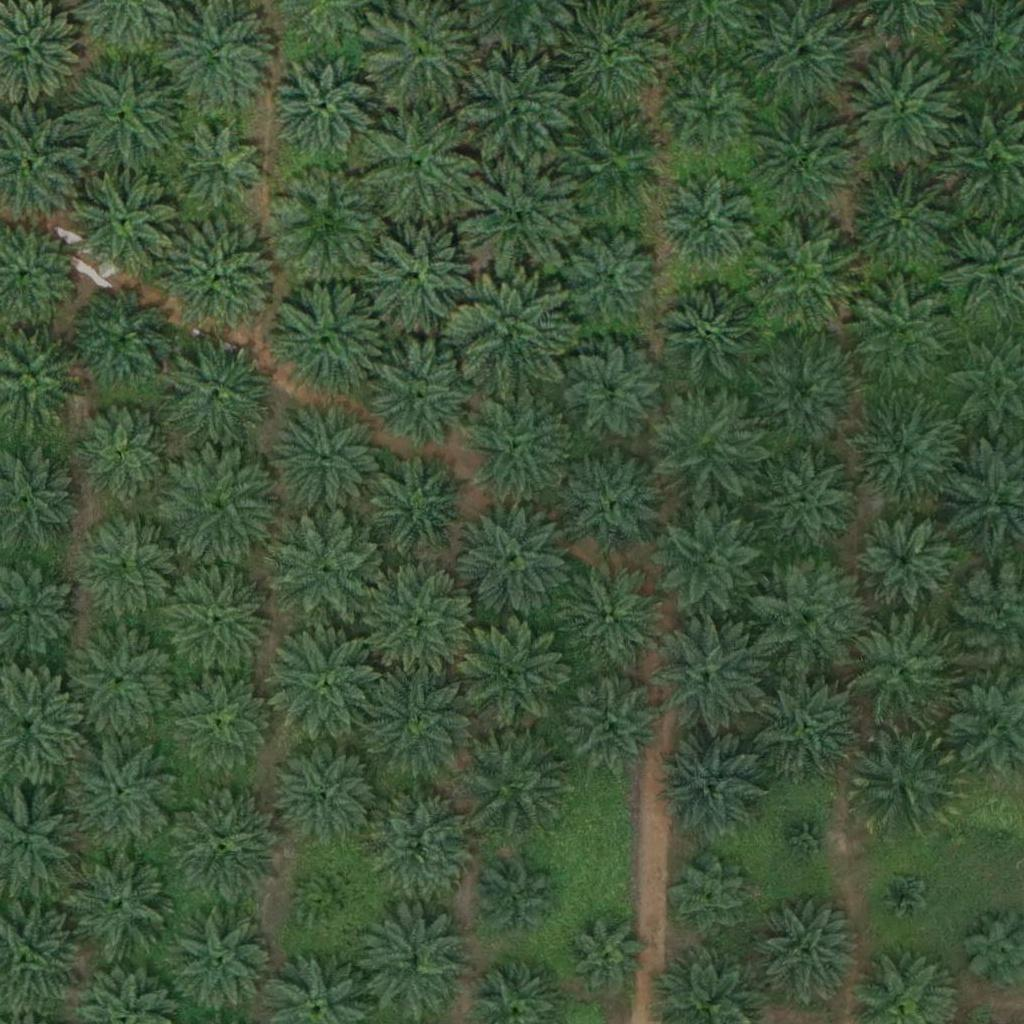Kelapa_Sawit: (749, 101, 862, 215), (847, 277, 960, 391), (850, 397, 963, 511), (364, 786, 477, 900), (270, 627, 383, 741), (68, 56, 181, 169), (69, 161, 182, 274), (163, 221, 276, 334), (273, 280, 386, 393), (459, 55, 572, 168), (461, 161, 574, 274), (455, 276, 568, 389), (844, 55, 957, 168), (846, 164, 959, 277), (654, 507, 767, 620), (654, 620, 767, 733), (657, 735, 770, 848), (552, 556, 665, 669), (368, 567, 481, 680), (362, 662, 475, 775), (269, 402, 382, 515), (273, 518, 386, 631), (160, 337, 273, 450), (165, 451, 278, 564), (358, 910, 471, 1023), (750, 226, 862, 340), (166, 565, 278, 679), (848, 724, 960, 837), (160, 3, 272, 116), (272, 166, 384, 279), (366, 108, 478, 221), (364, 214, 476, 327), (557, 109, 669, 222), (746, 335, 858, 448), (846, 614, 958, 727), (746, 560, 858, 673), (750, 667, 862, 780), (649, 389, 761, 502), (461, 393, 573, 506), (458, 504, 570, 617), (463, 616, 575, 729), (462, 723, 574, 836), (368, 338, 480, 451), (168, 791, 280, 904), (67, 628, 179, 741), (71, 738, 183, 851), (65, 847, 177, 960), (750, 898, 862, 1011), (71, 288, 171, 389), (171, 121, 271, 222), (271, 54, 371, 155), (561, 226, 661, 327), (563, 345, 663, 446), (663, 287, 763, 388), (855, 511, 955, 612), (757, 452, 857, 553), (563, 449, 663, 550), (564, 676, 664, 777), (373, 455, 473, 556), (173, 912, 273, 1013), (658, 174, 758, 274), (278, 744, 378, 844), (171, 675, 271, 775), (72, 407, 172, 507), (77, 521, 177, 621), (664, 71, 752, 159), (669, 856, 756, 944), (482, 866, 557, 942), (568, 917, 643, 992), (299, 869, 361, 932), (784, 814, 834, 865), (878, 870, 928, 921)
